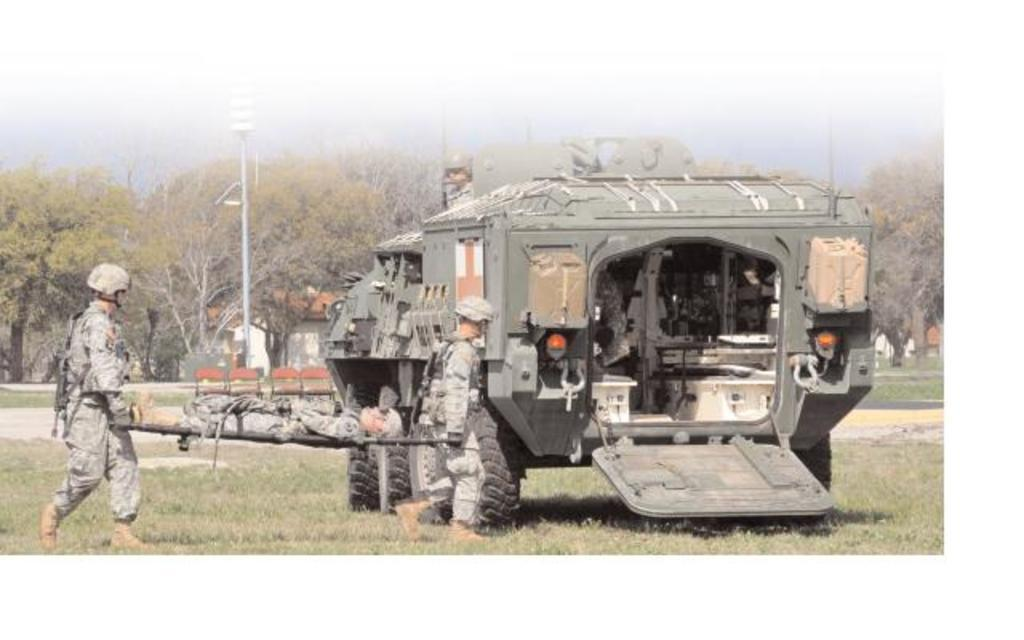non-violence: (389, 291, 506, 542), (46, 258, 142, 560), (149, 392, 410, 437)
weapon: (48, 310, 73, 438), (410, 350, 435, 424)
